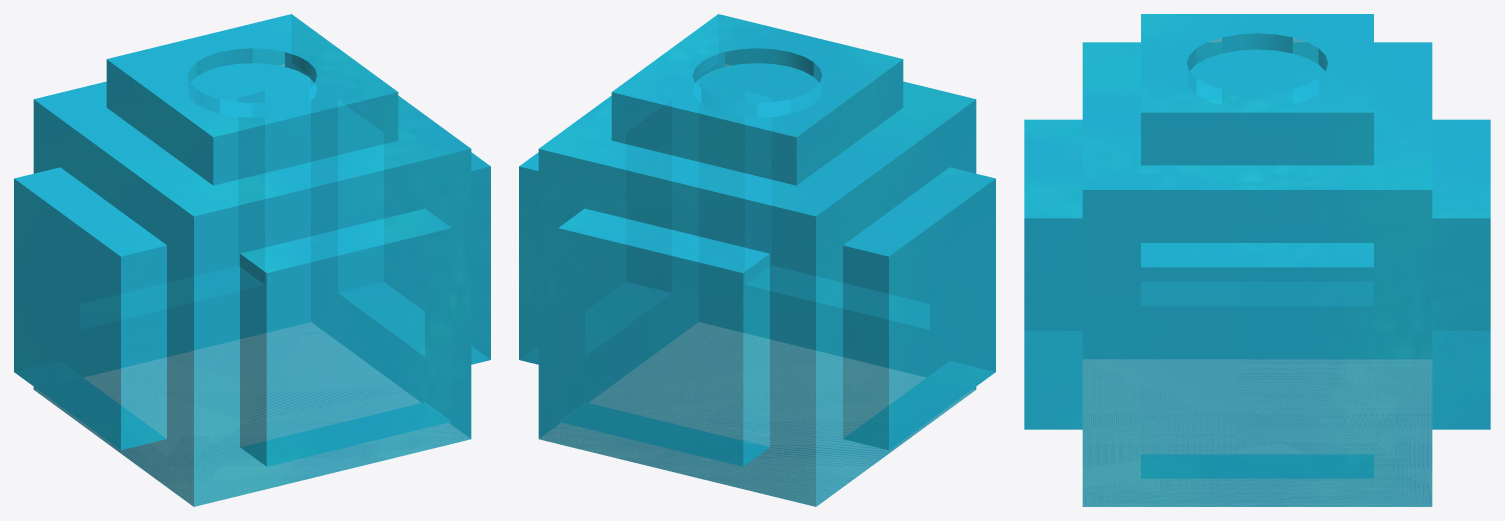
Rendered from PaperWeight.dae.
The picture shows the model from 3 angles, left to right: view 1: azimuth 30°, elevation 25°; view 2: azimuth 150°, elevation 25°; view 3: azimuth 270°, elevation 25°; orthographic projection. The views are drawn at different scales.
Parts seen in each view (by area): view 1: SketchUp (×8); view 2: SketchUp (×8); view 3: SketchUp (×8).
Boxes of the visible parts, box(x1,y1,x2,y2) form: SketchUp (×8): box(14, 14, 490, 506); SketchUp (×8): box(519, 14, 995, 506); SketchUp (×8): box(1024, 14, 1490, 506).
Size of the model in its own units: 8 by 8 by 7.
